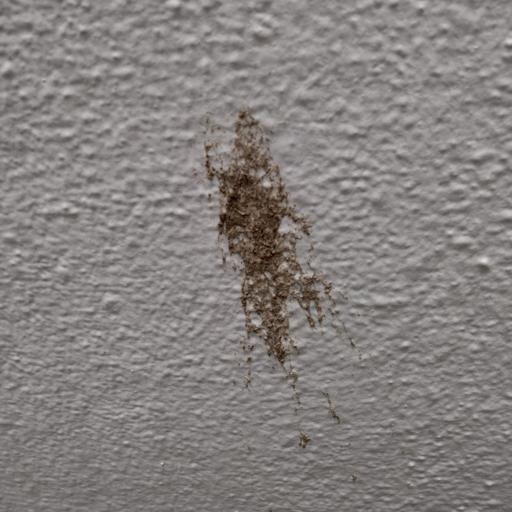stain: (199, 97, 370, 490)
